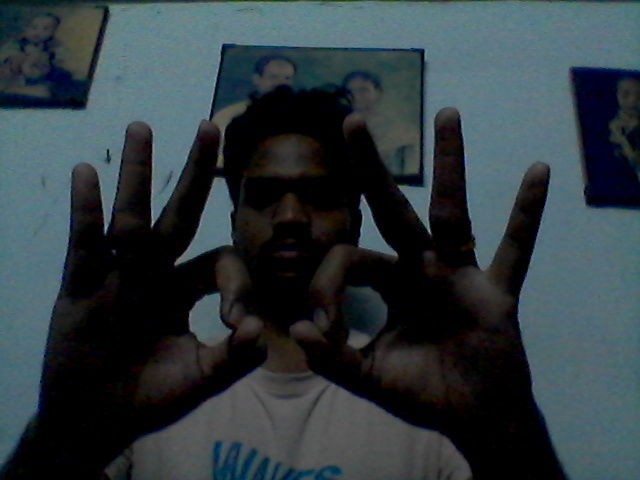How are you: (25, 104, 573, 443)
